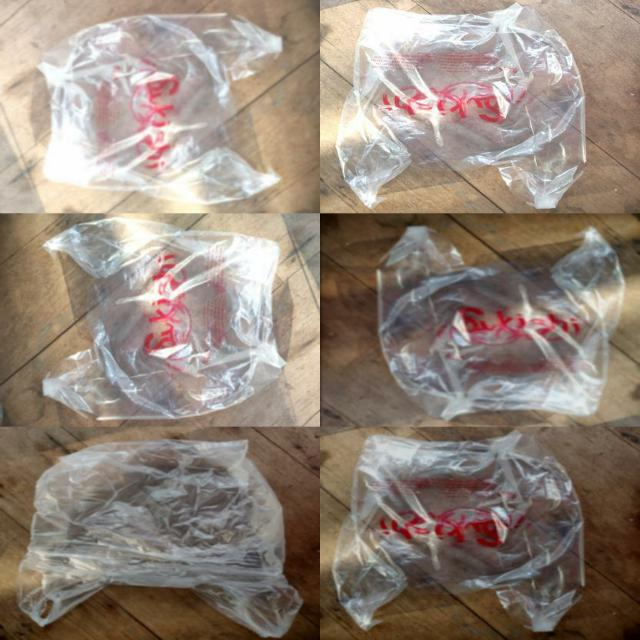Single-layer Plastic: (18, 440, 301, 637), (337, 4, 585, 209), (333, 431, 584, 632), (43, 218, 285, 420), (377, 226, 624, 419), (39, 14, 281, 204)
